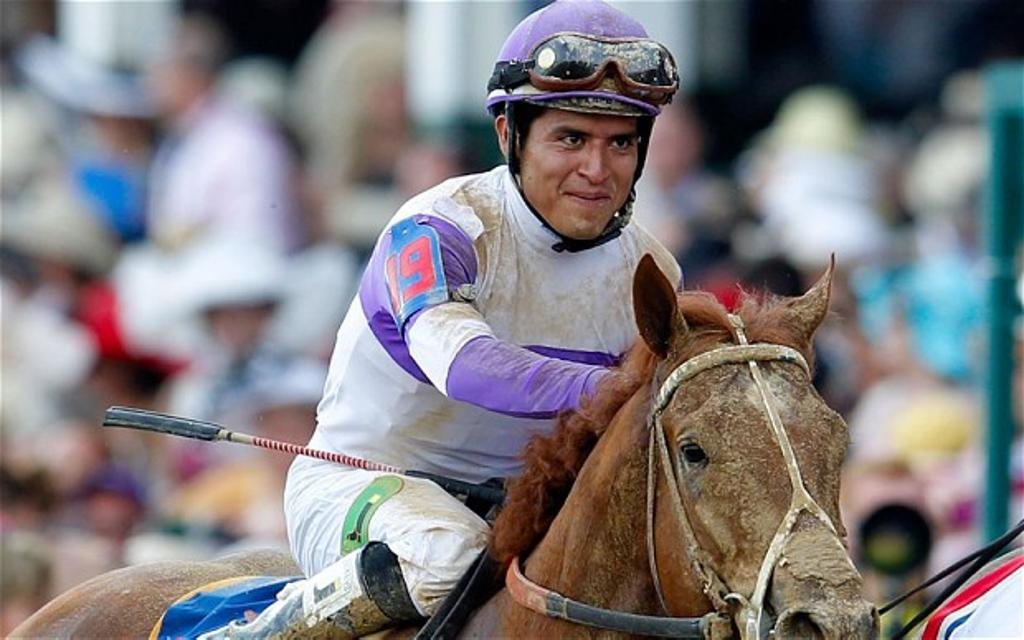face: (537, 77, 641, 229)
